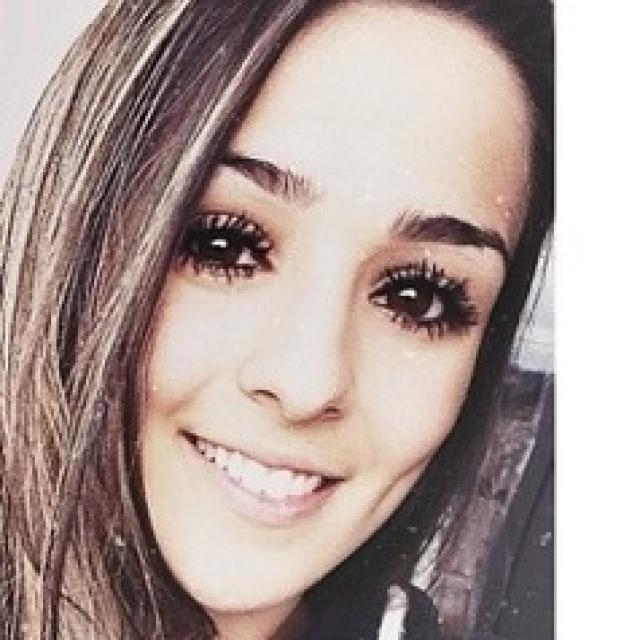Normal: (129, 0, 533, 610)
